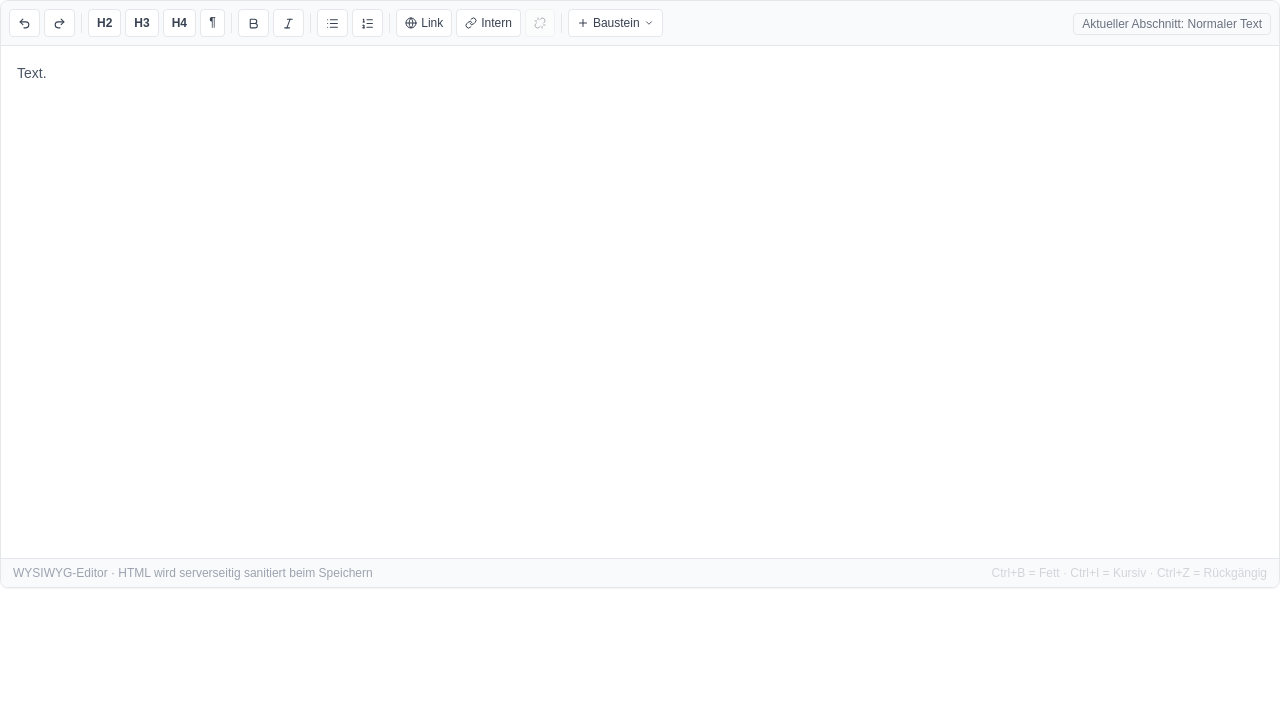
Scenario: C1/C2 – Toolbar-Button öffnet und schliesst › der Button öffnet das Menü
The width and height of the screenshot is (1280, 720).
Press the mouse on the button with test id "btn-insert-block": [615, 23] box left=568, top=9, right=663, bottom=37
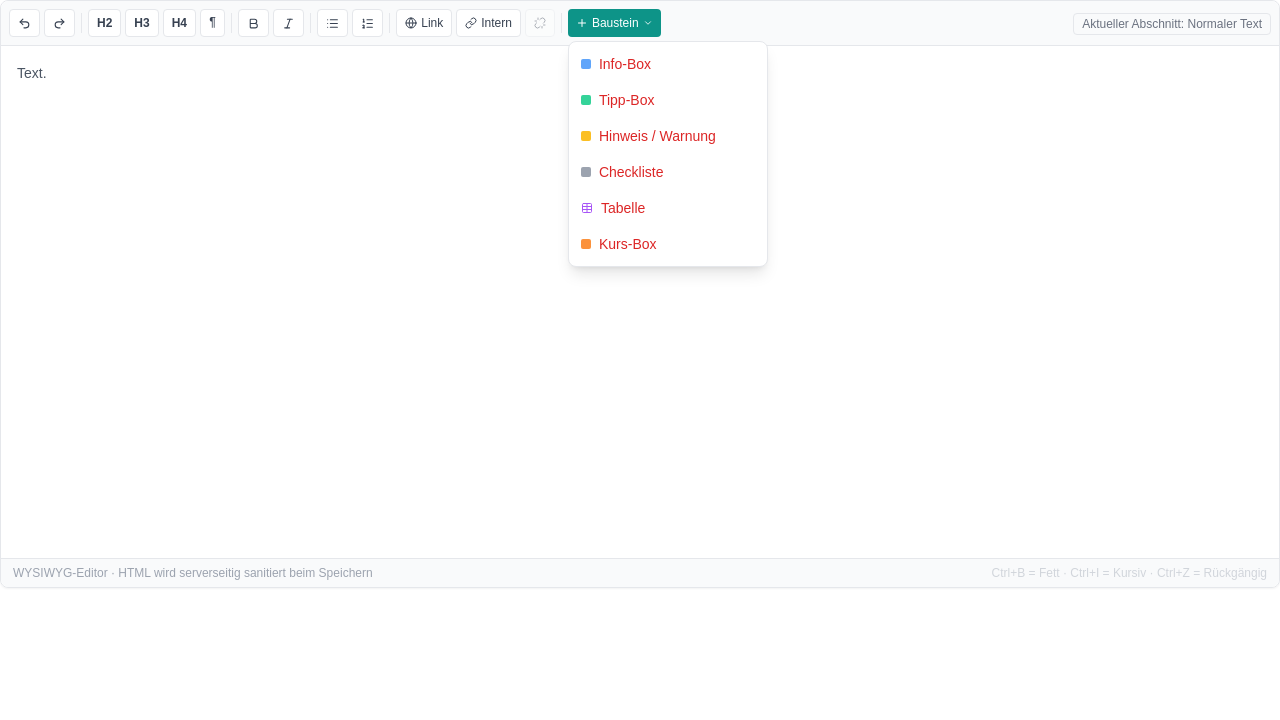
Now the menu with test id "insert-menu" is shown, box left=568, top=41, right=768, bottom=267
